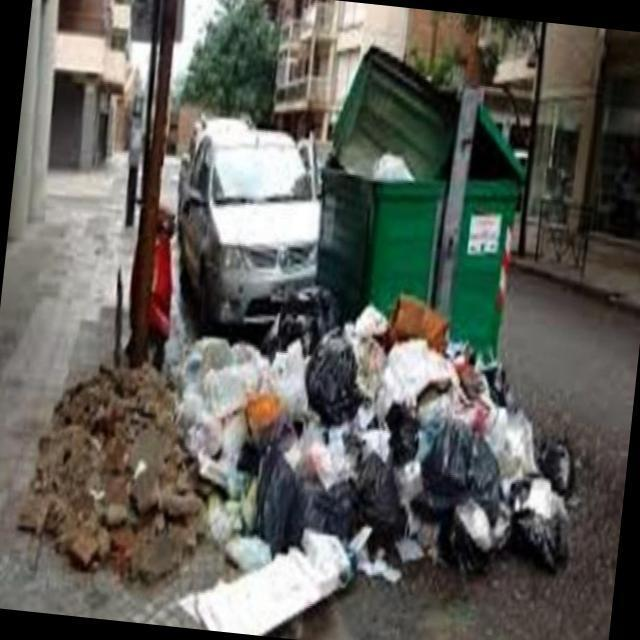garbage: (147, 257, 607, 640), (335, 130, 422, 222)
